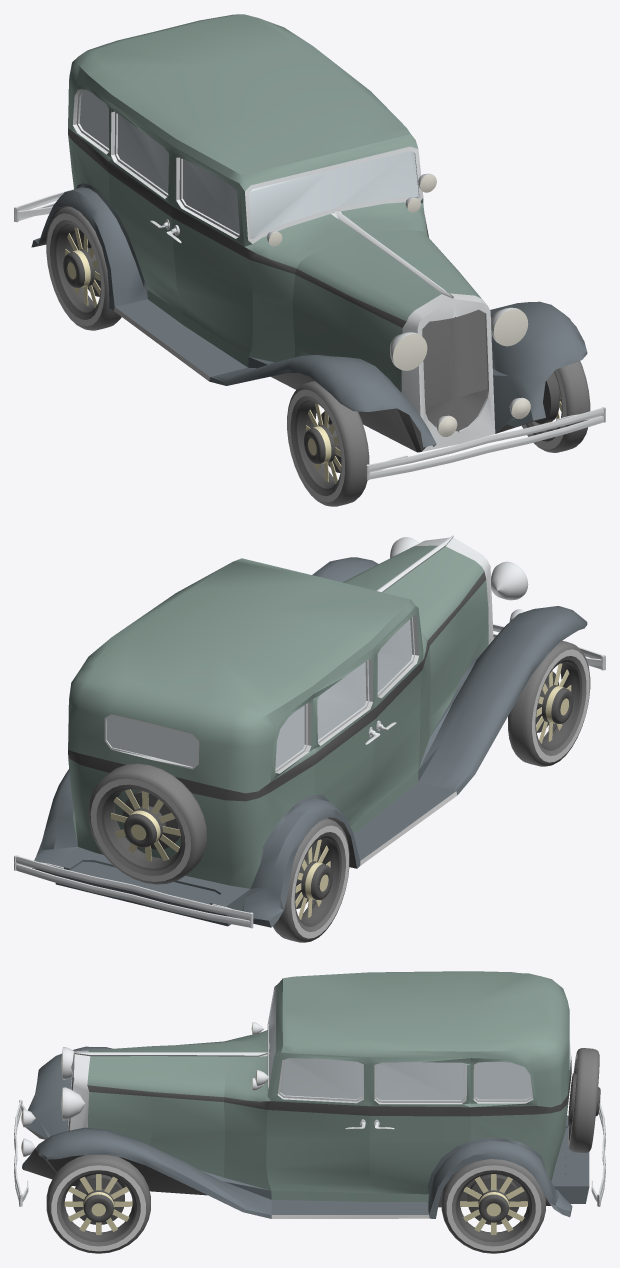
File: car3.fbx
The picture shows the model from 3 angles, top to bottom: view 1: azimuth 30°, elevation 25°; view 2: azimuth 150°, elevation 25°; view 3: azimuth 270°, elevation 25°; orthographic projection. The views are drawn at different scales.
Visible parts, largest first — view 1: roof_001, hood_001, glass_001, ffender_001, grill_001, fbody_001, fdoor_001, rubber_001, bdoor_001, rfender_001, bumpers_001, trim_001 (+11 smaller); view 2: roof_001, ffender_001, rbody_001, hood_001, rubber_001, glass_001, rfender_001, fdoor_001, bdoor_001, rim_001, whitewalls_001, bumpers_001 (+10 smaller); view 3: roof_001, hood_001, fdoor_001, glass_001, bdoor_001, ffender_001, rubber_001, fbody_001, rbody_001, rfender_001, whitewalls_001, step_001 (+12 smaller).
Boxes of the visible parts, x1,y1,x2,y2 form: roof_001: (68,14,423,246); hood_001: (292,229,481,392); glass_001: (79,90,418,238); ffender_001: (209,301,587,447); grill_001: (401,290,495,451); fbody_001: (147,202,428,367); fdoor_001: (171,146,252,356); rubber_001: (46,206,590,506); bdoor_001: (108,102,183,313); rfender_001: (31,183,147,310); bumpers_001: (14,189,605,480); trim_001: (73,89,423,243); roof_001: (68,558,423,793); ffender_001: (312,557,587,795); rbody_001: (68,694,315,888); hood_001: (343,545,488,737); rubber_001: (88,640,590,942); glass_001: (106,619,412,768); rfender_001: (32,769,360,927); fdoor_001: (363,606,423,815); bdoor_001: (313,648,375,826); rim_001: (101,660,582,927); whitewalls_001: (90,649,589,938); bumpers_001: (14,624,605,928); roof_001: (267,971,571,1107); hood_001: (87,1041,225,1177); fdoor_001: (266,1052,369,1192); glass_001: (268,990,530,1100); bdoor_001: (369,1057,470,1194); ffender_001: (22,1046,271,1218); rubber_001: (46,1048,599,1253); fbody_001: (223,1030,428,1201); rbody_001: (470,1058,571,1180); rfender_001: (427,1115,572,1218); whitewalls_001: (51,1052,577,1251); step_001: (271,1200,429,1218).
Size of the model in its own units: 15.36 by 14.13 by 37.8.
